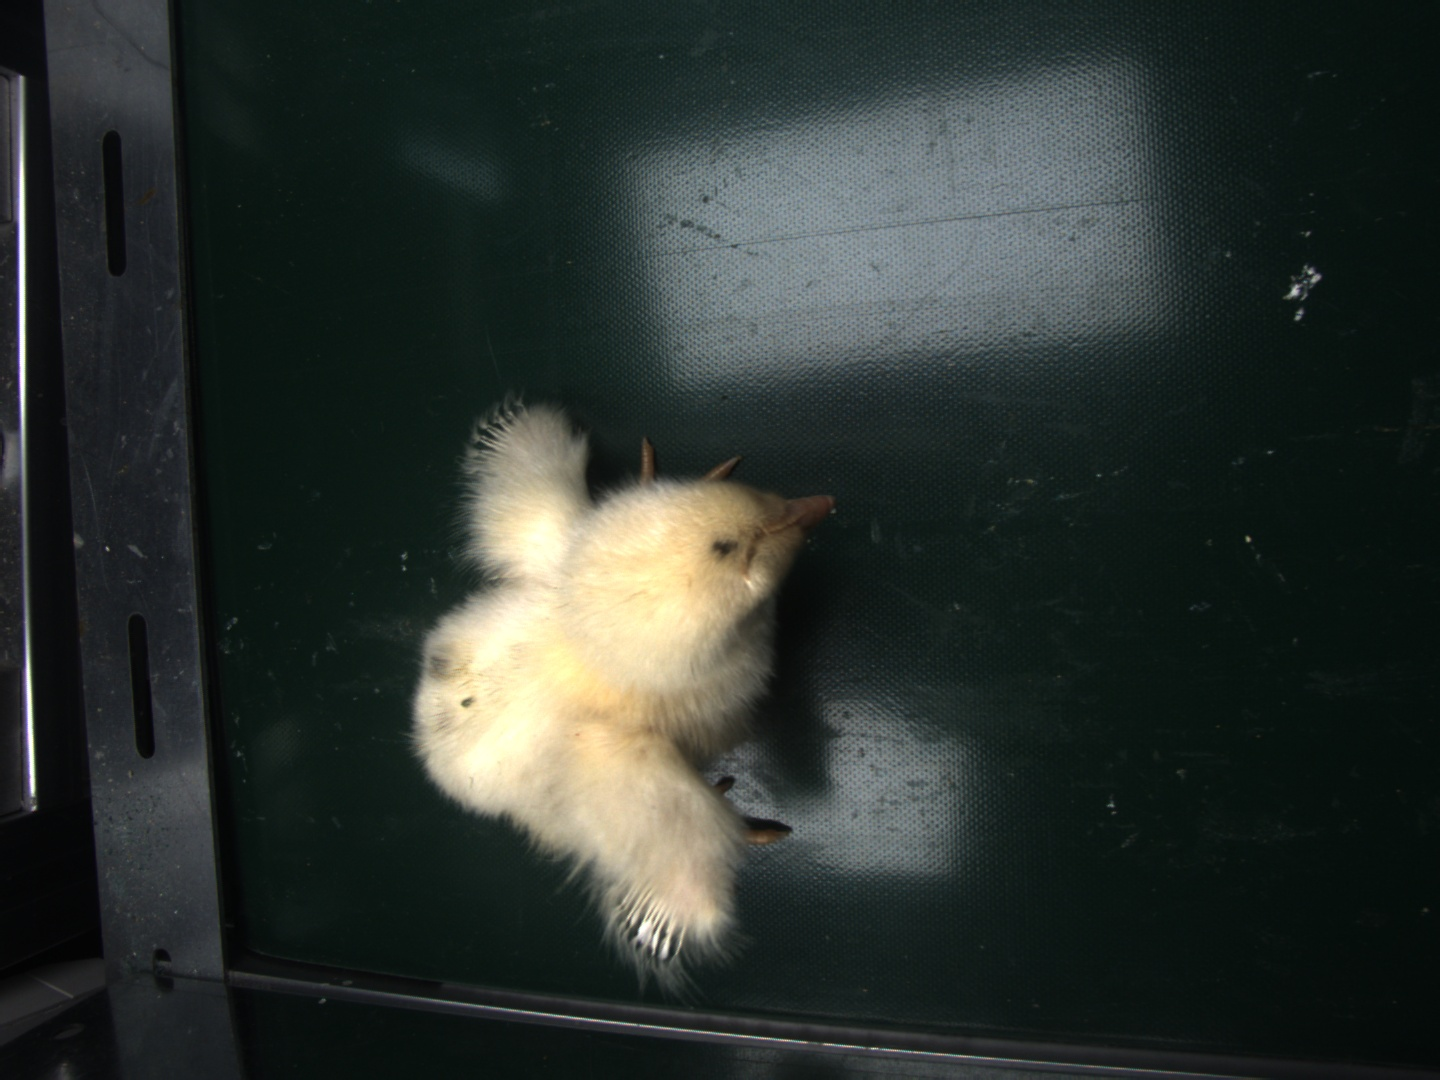male: (613, 880, 688, 957), (469, 403, 531, 456)
